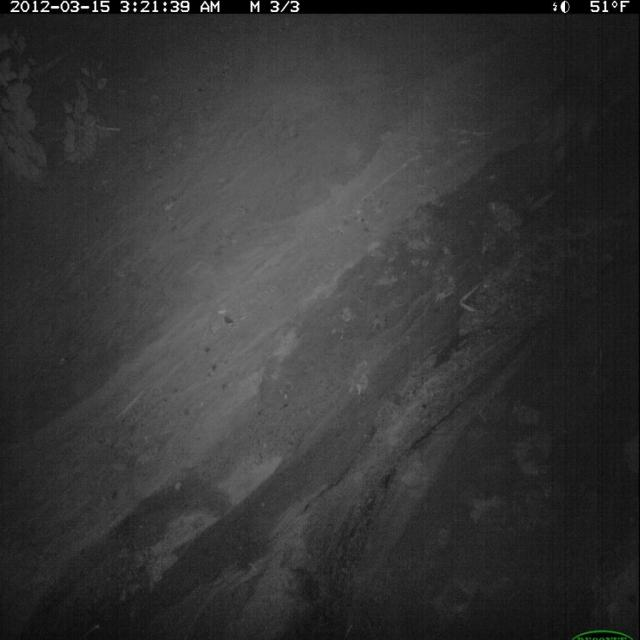raccoon: (540, 61, 609, 167)
